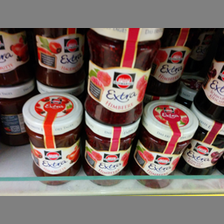jam: (83, 27, 165, 126), (128, 98, 199, 190), (21, 92, 82, 185), (80, 113, 142, 185), (32, 28, 86, 89)
